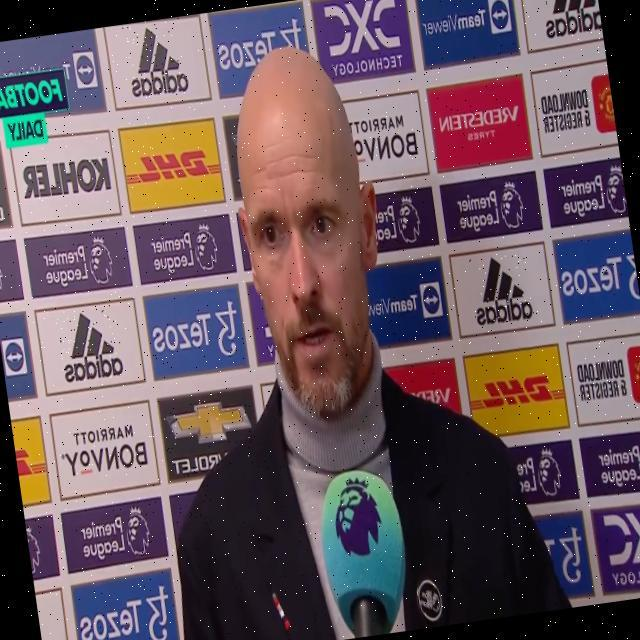Adidas: (55, 304, 126, 385), (122, 17, 189, 101), (467, 252, 535, 327), (535, 0, 602, 38)
Chevrolet: (163, 394, 257, 477)
Kohler: (19, 150, 112, 202)
